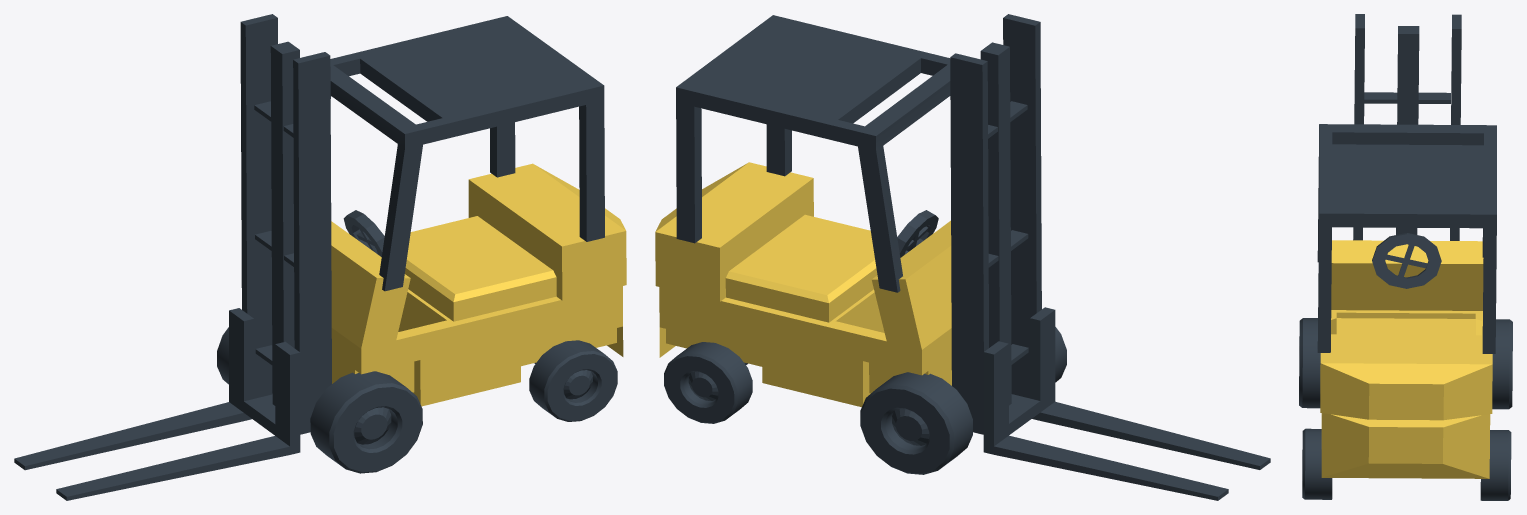
File: forklift.fbx
3 views of the same model, side by side, from view 1: azimuth 30°, elevation 25°; view 2: azimuth 150°, elevation 25°; view 3: azimuth 270°, elevation 25° (orthographic). The views are drawn at different scales.
Visible parts, largest first — view 1: forklift, arm; view 2: forklift, arm; view 3: forklift.
Boxes of the visible parts, x1,y1,x2,y2 form: forklift: [217, 14, 626, 473]; arm: [14, 308, 300, 500]; forklift: [655, 14, 1066, 474]; arm: [983, 307, 1270, 500]; forklift: [1299, 14, 1512, 500].
Size of the model in its own units: 391 by 268 by 141.
Materials: 1 (1 with a texture image).
